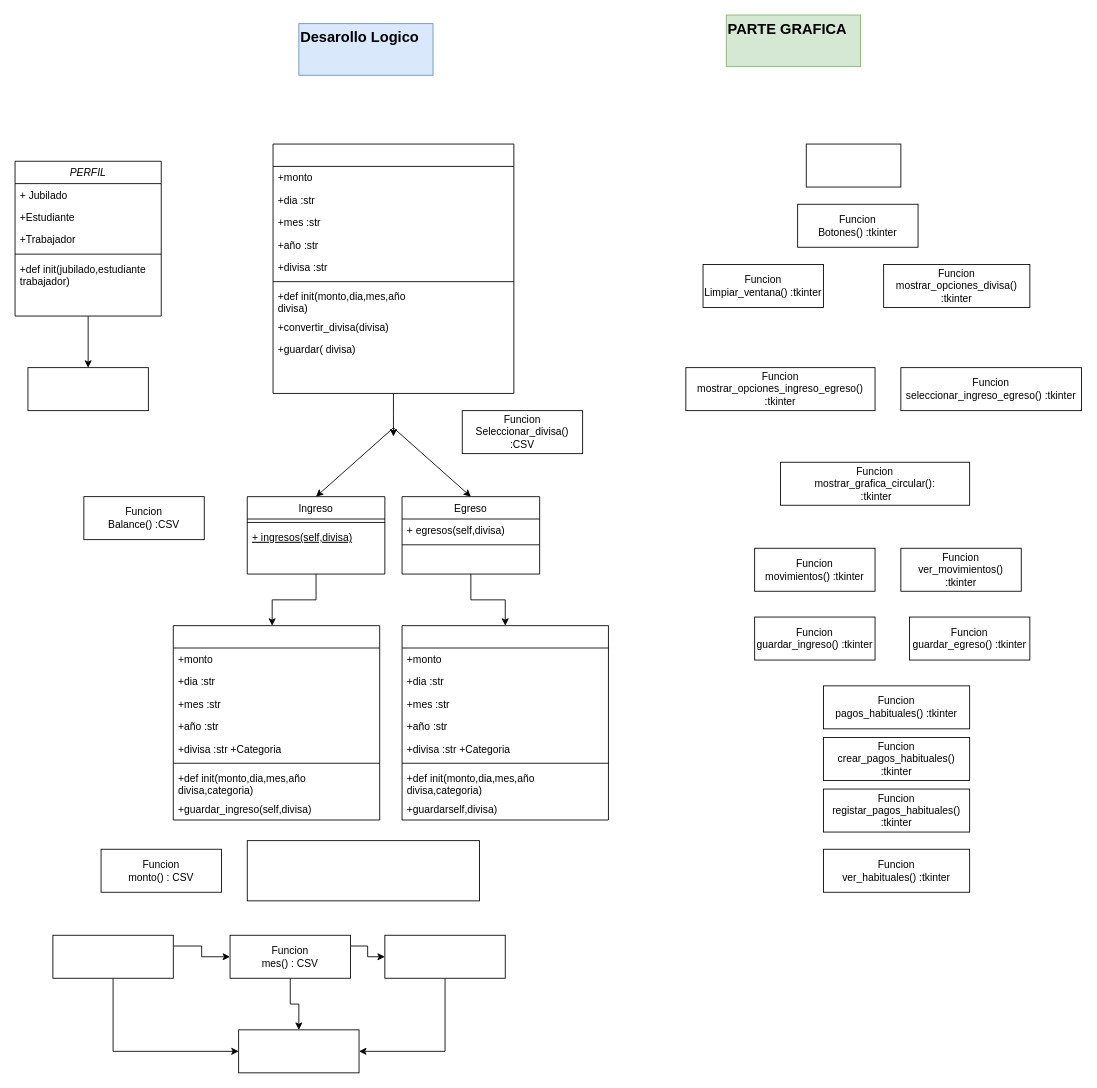
Image size: 1097x1088. Some labels were removed from this diagram. The box of each missing label's shape, as (x1, y1, x2, y2) in pixels:
EGRESO CATALOGADO: (401, 625, 608, 820)
Funcion año() : CSV: (384, 934, 505, 978)
Funcion dia() : CSV: (52, 934, 173, 978)
Funcion filtrar(): (238, 1029, 359, 1073)
Funcion seleccionar_perfil(): (27, 367, 148, 411)
INGRESO CATALOGADO: (172, 625, 380, 820)
METODO ESTATICO obtener_ingresos_por_categoria(categoria): (246, 840, 479, 901)
Movimiento: (272, 143, 514, 393)
TKINTER: (805, 143, 901, 187)
